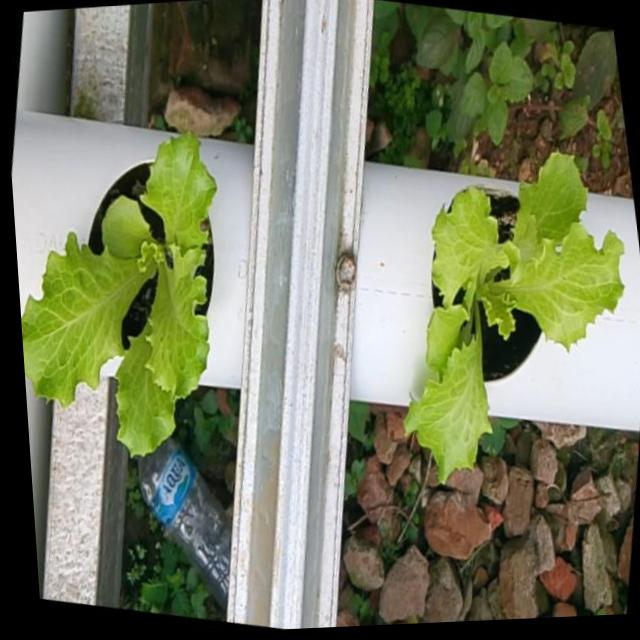Baby: (408, 144, 628, 475), (22, 125, 221, 451)
